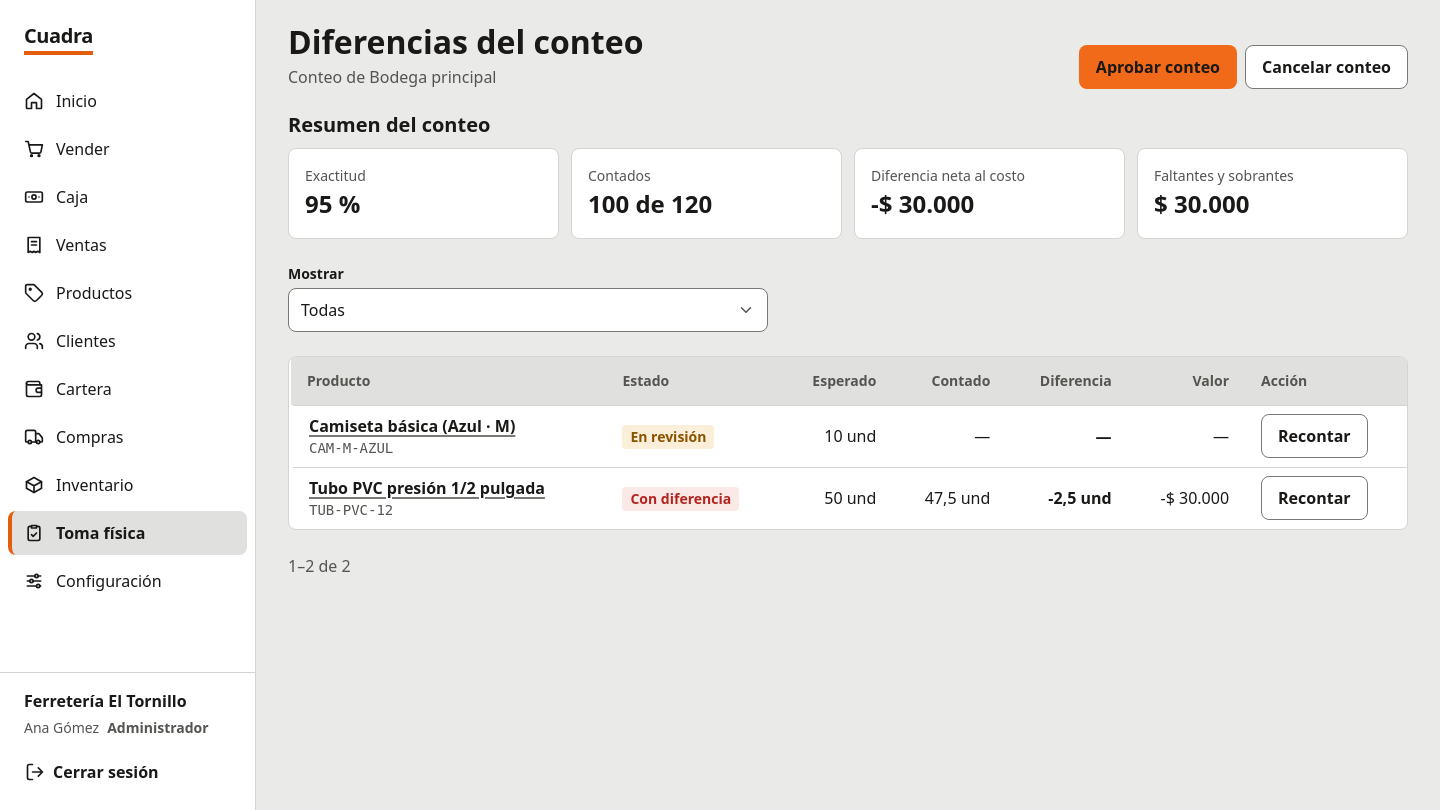
CountReviewPage › sin stock para ajustar (P90) › al aprobar nombra el producto que se quedaría sin stock
The width and height of the screenshot is (1440, 810).
Click the button "Aprobar conteo": (1158,67) [1079,45,1237,89]
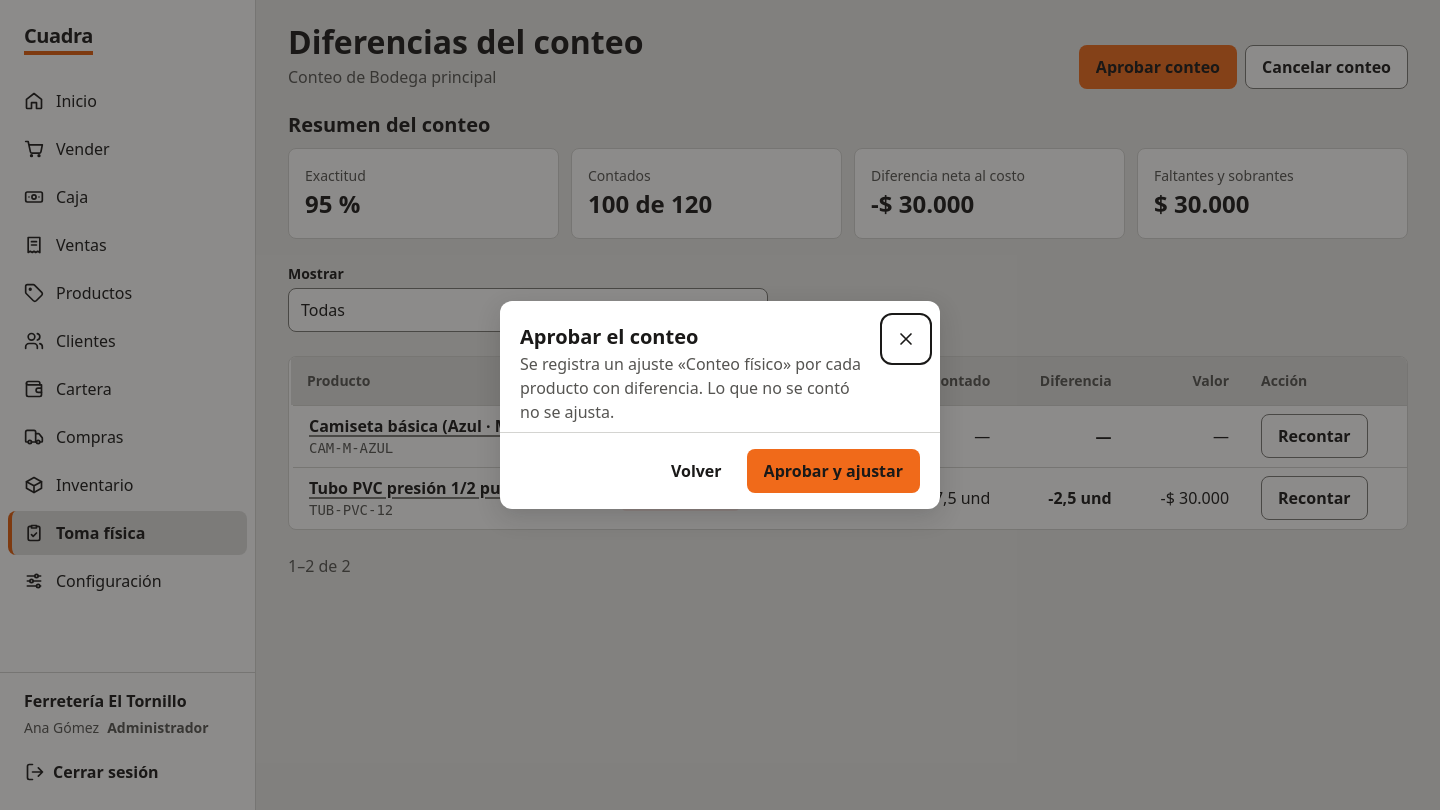
Click the button "Aprobar y ajustar": (833,471) [747,449,920,493]
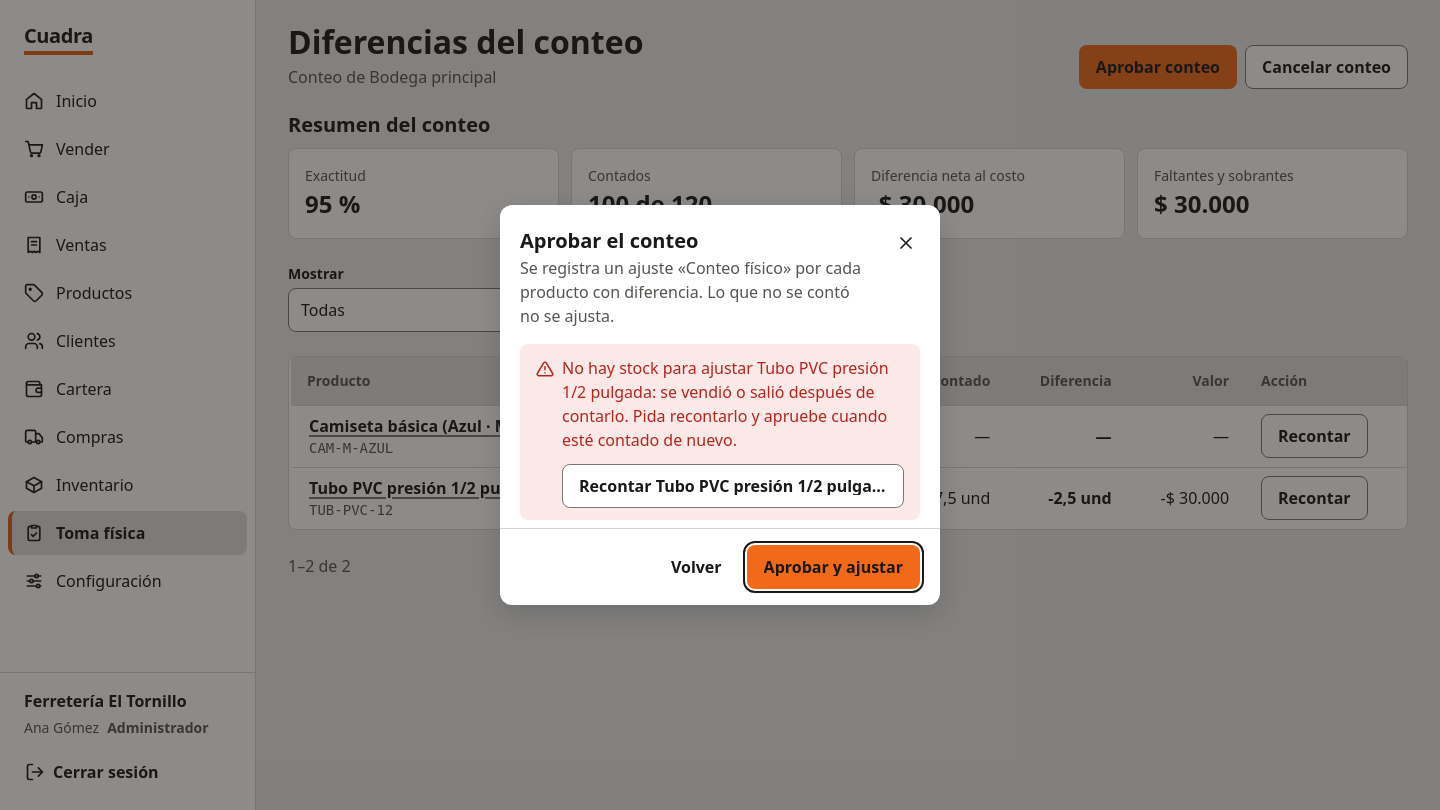
Expected: the text "No hay stock para ajustar Tubo PVC presión 1/2 pulgada" is shown, [562,356,904,452]
Expected: the button "Recontar Tubo PVC presión 1/2 pulgada" is shown, [562,464,904,508]
